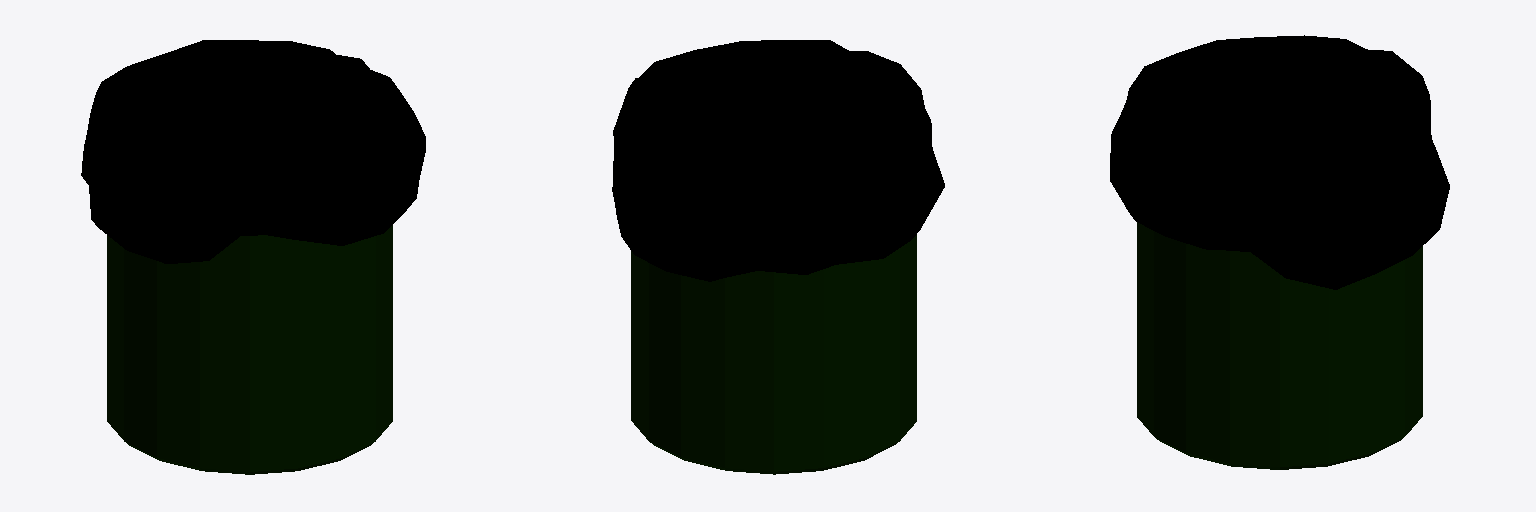
Rendered from basura.obj.
The picture shows the model from 3 angles: view 1: azimuth 30°, elevation 25°; view 2: azimuth 150°, elevation 25°; view 3: azimuth 270°, elevation 25°; orthographic projection.
Parts seen in each view (by area): view 1: Cylinder181; view 2: Cylinder181; view 3: Cylinder181.
Boxes of the visible parts, x1=… form: Cylinder181: x1=81, y1=40, x2=425, y2=474; Cylinder181: x1=612, y1=40, x2=944, y2=474; Cylinder181: x1=1110, y1=35, x2=1449, y2=469.
Size of the model in its own units: 3.42 by 3.37 by 3.28.